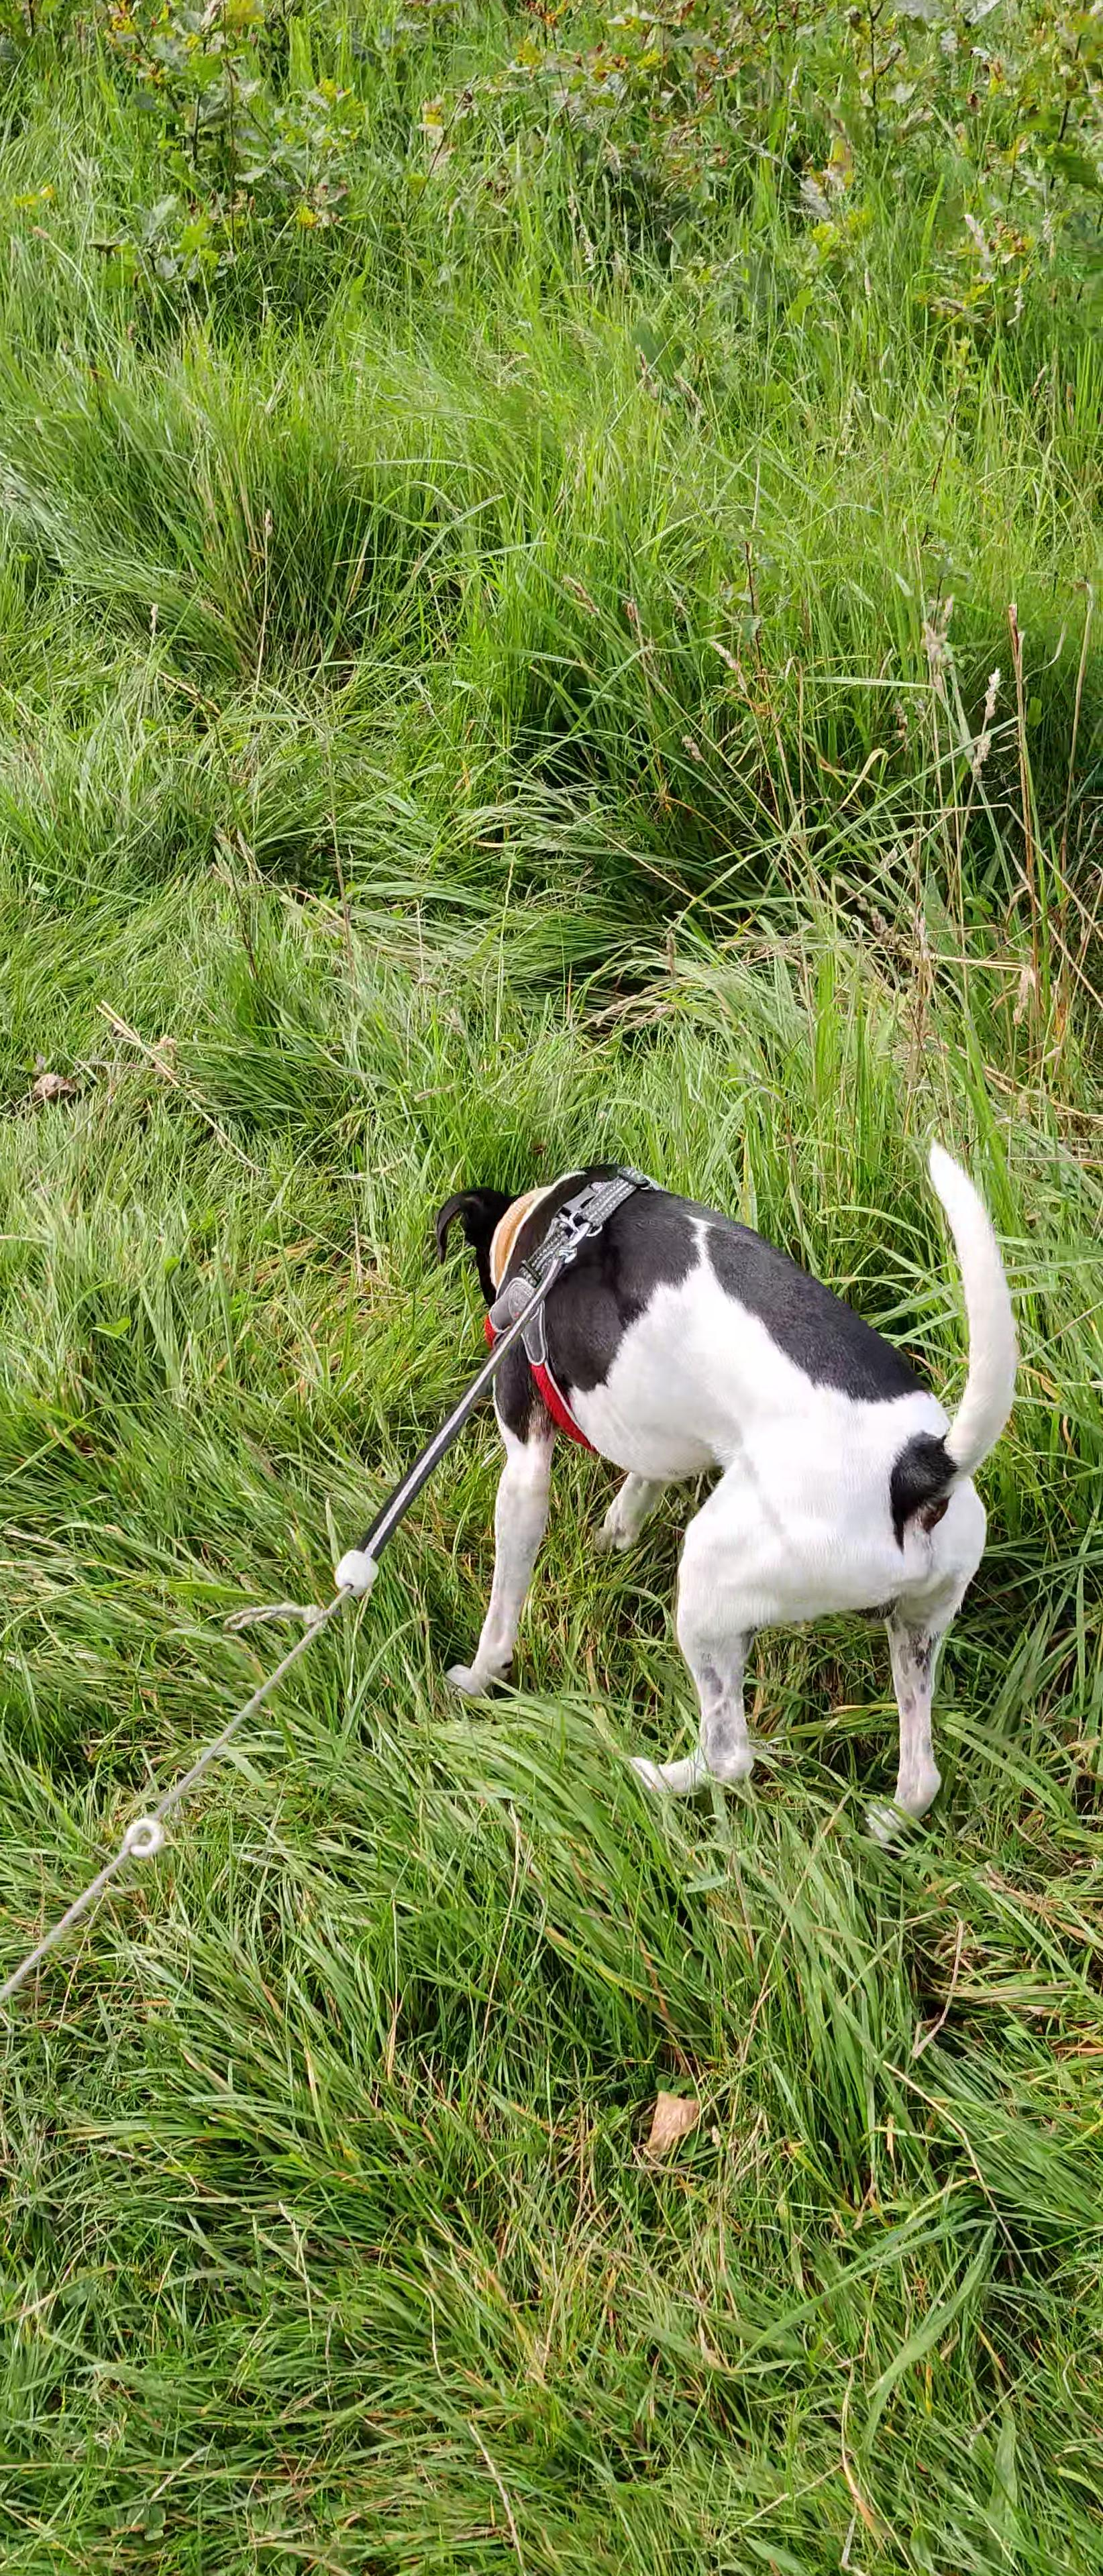Dog: (416, 1124, 1026, 1850)
